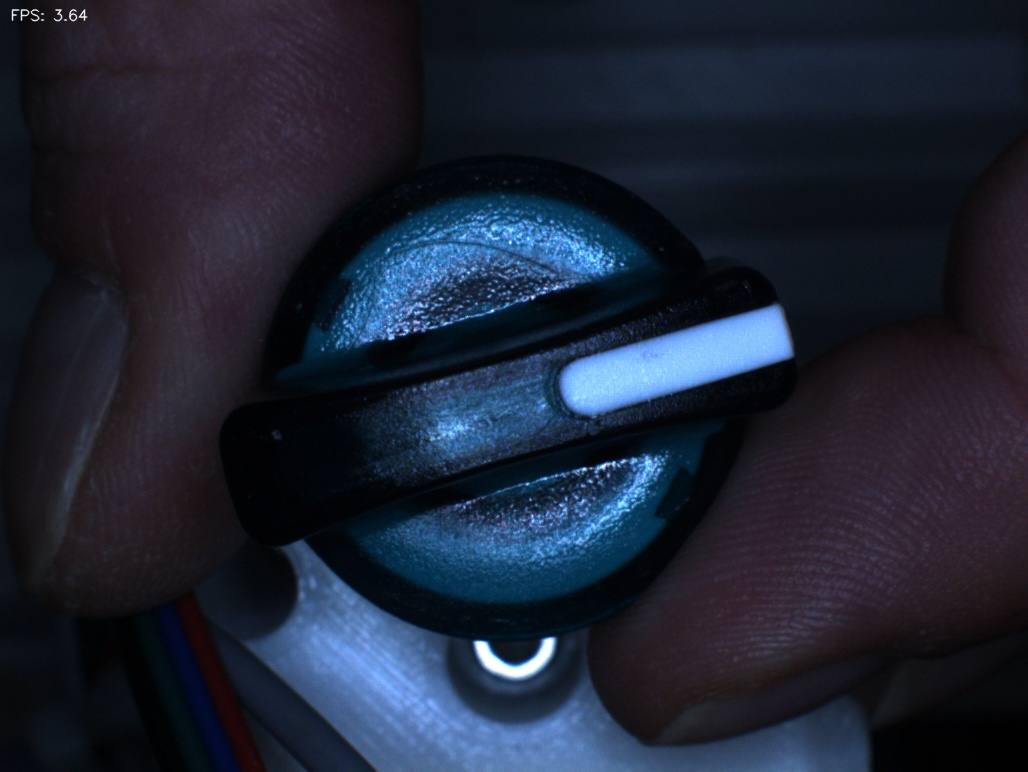PointNoir: (609, 317, 684, 395)
